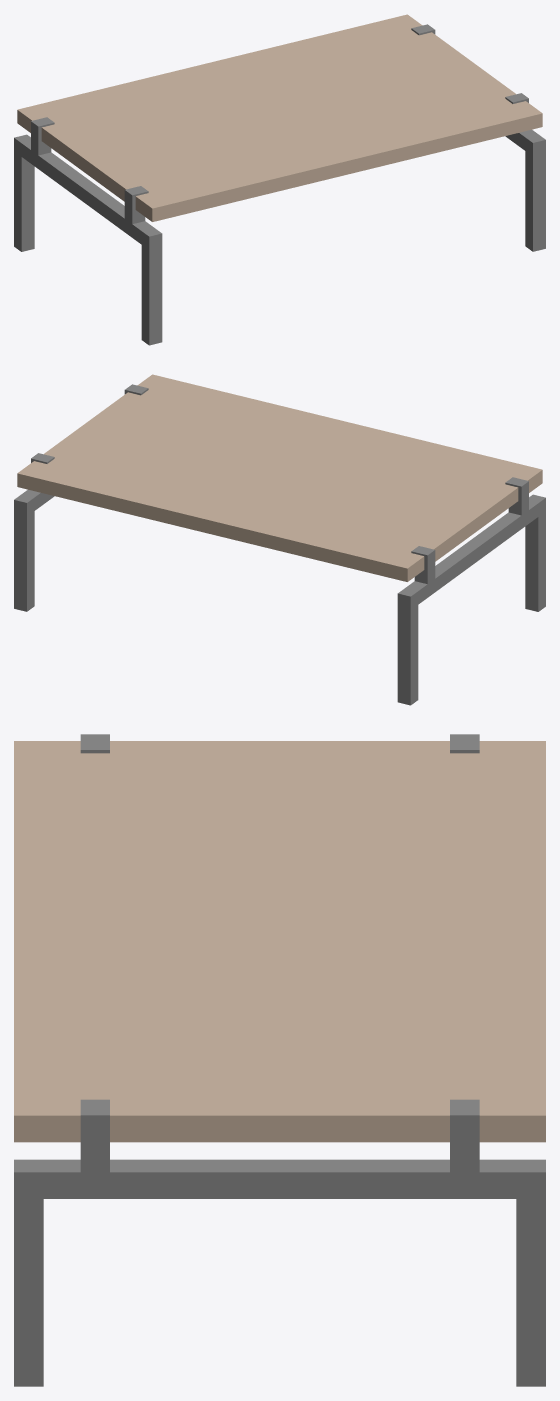
File: coffeeTable2.obj
3 renders of one model, top to bottom at view 1: azimuth 30°, elevation 25°; view 2: azimuth 150°, elevation 25°; view 3: azimuth 270°, elevation 25°, orthographic. The views are drawn at different scales.
Parts seen in each view (by area): view 1: Mesh1 Model; view 2: Mesh1 Model; view 3: Mesh1 Model.
Boxes of the visible parts, box(x1,y1,x2,y2) form: Mesh1 Model: box(14, 14, 545, 345); Mesh1 Model: box(14, 374, 545, 705); Mesh1 Model: box(14, 734, 545, 1386).
Bounding box in the file's own units: 0.8987 × 0.2983 × 0.5304.
